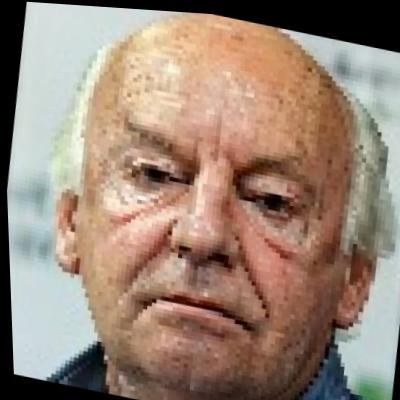sad: (52, 17, 364, 400)
